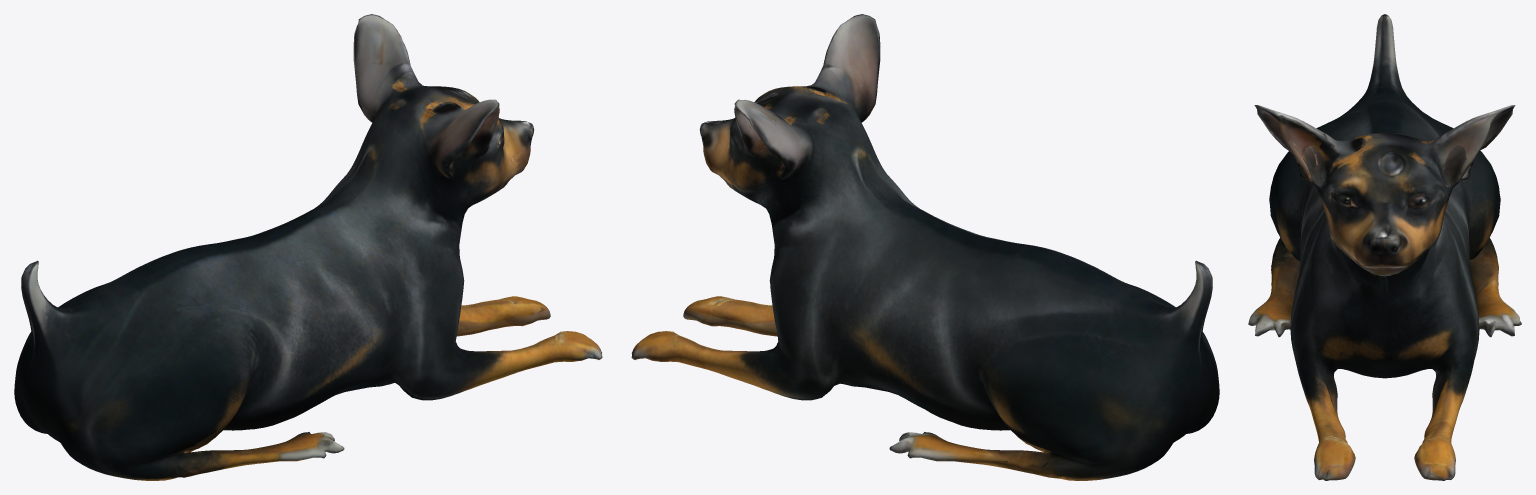
Rendered from pup.glb.
The picture shows the model from 3 angles, left to right: view 1: azimuth 30°, elevation 25°; view 2: azimuth 150°, elevation 25°; view 3: azimuth 270°, elevation 25°; orthographic projection.
Size of the model in its own units: 1.98 by 1.07 by 0.8499.
1 material, 1 textured.
